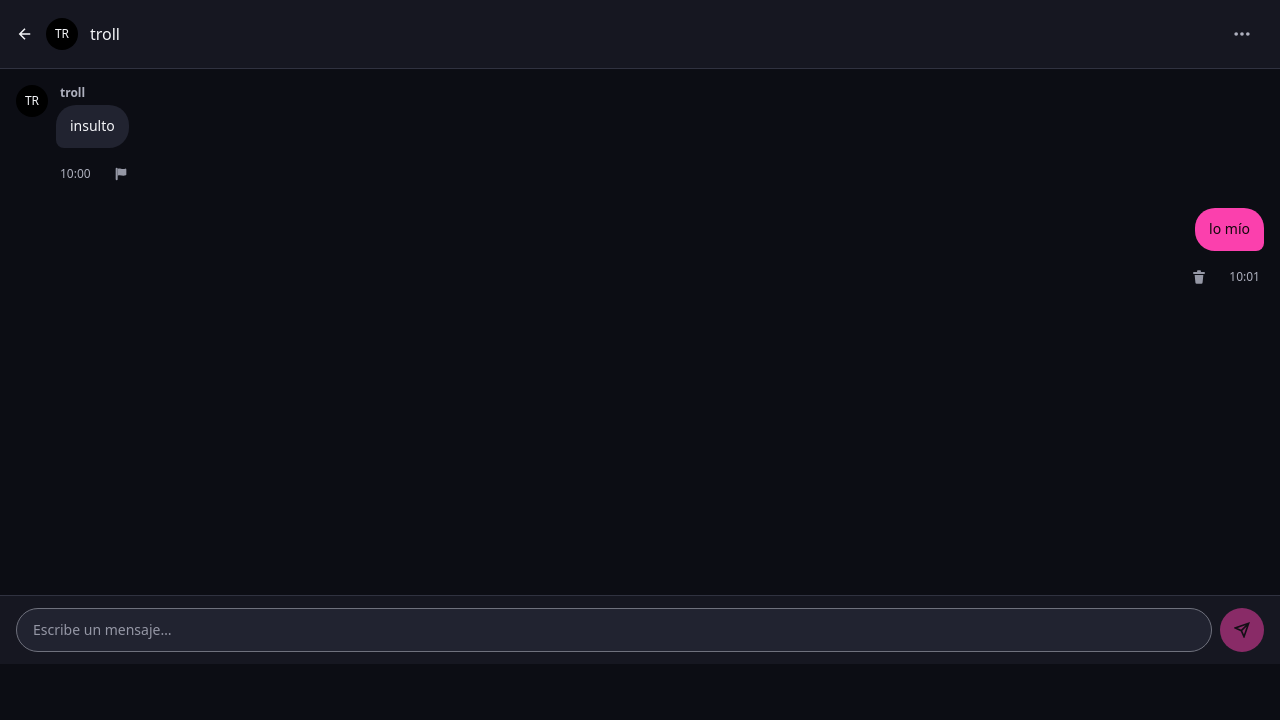
Test: ConversationClient con MODERATION_V2 › borrar el propio pide confirmación y lo quita de la lista
This screenshot has width=1280, height=720.
Check: the text "lo mío" is shown, box 1195,208 -> 1264,251
Step 1. Click the button named "Borrar mi mensaje" → [1199, 276], box 1177,254 -> 1221,298
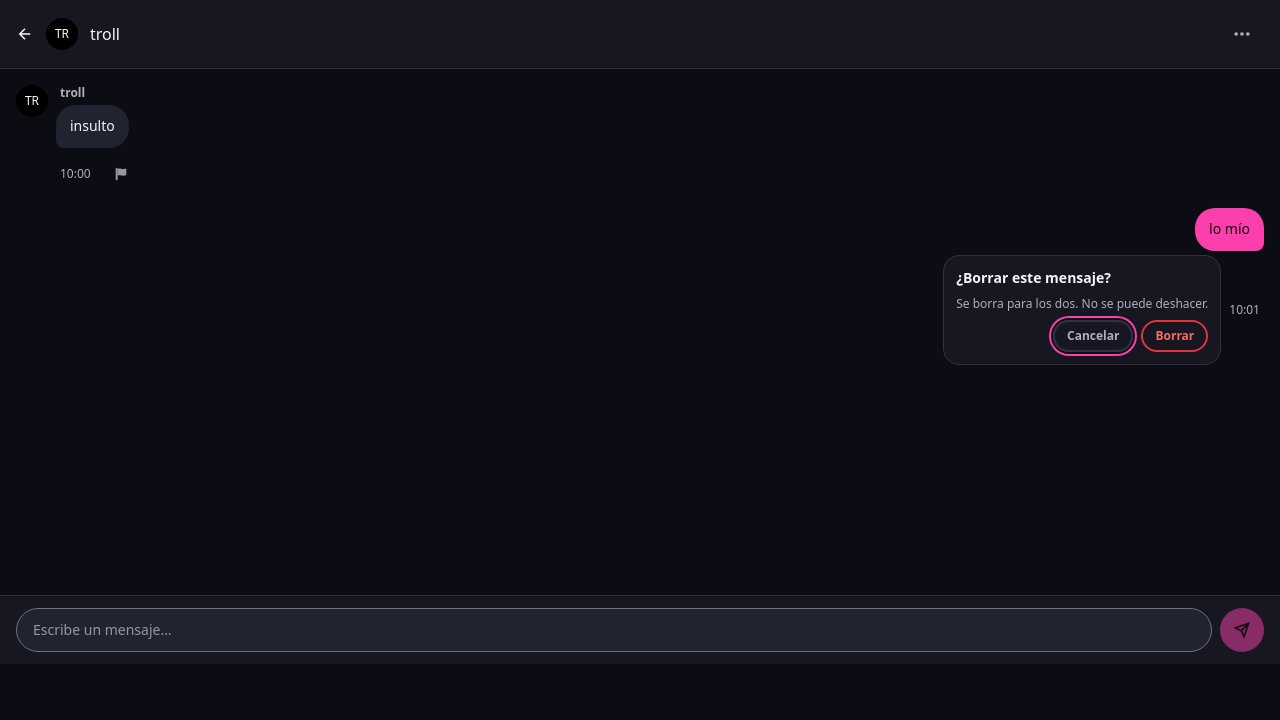
Step 2. Click the button "Borrar" → [1175, 336], box 1142,320 -> 1208,352
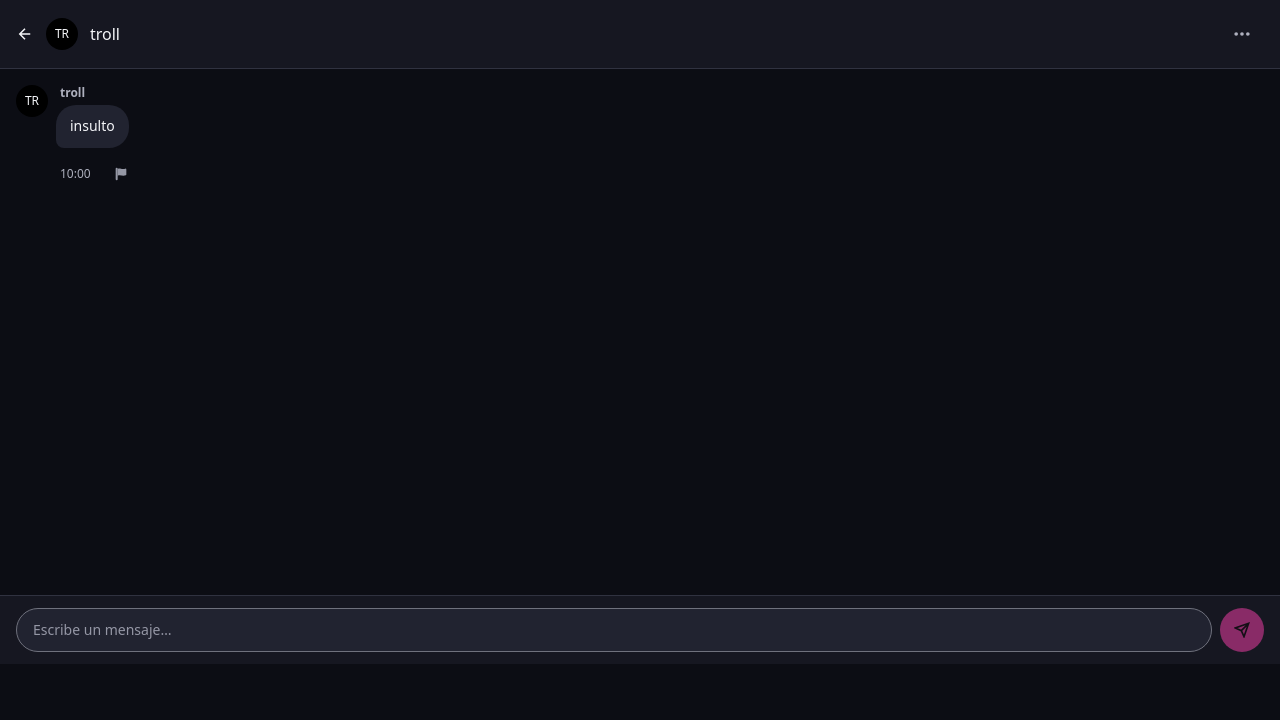
Check: the text "lo mío" is gone
